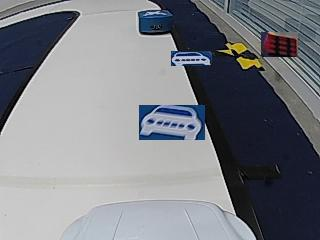prop: (138, 10, 173, 35)
